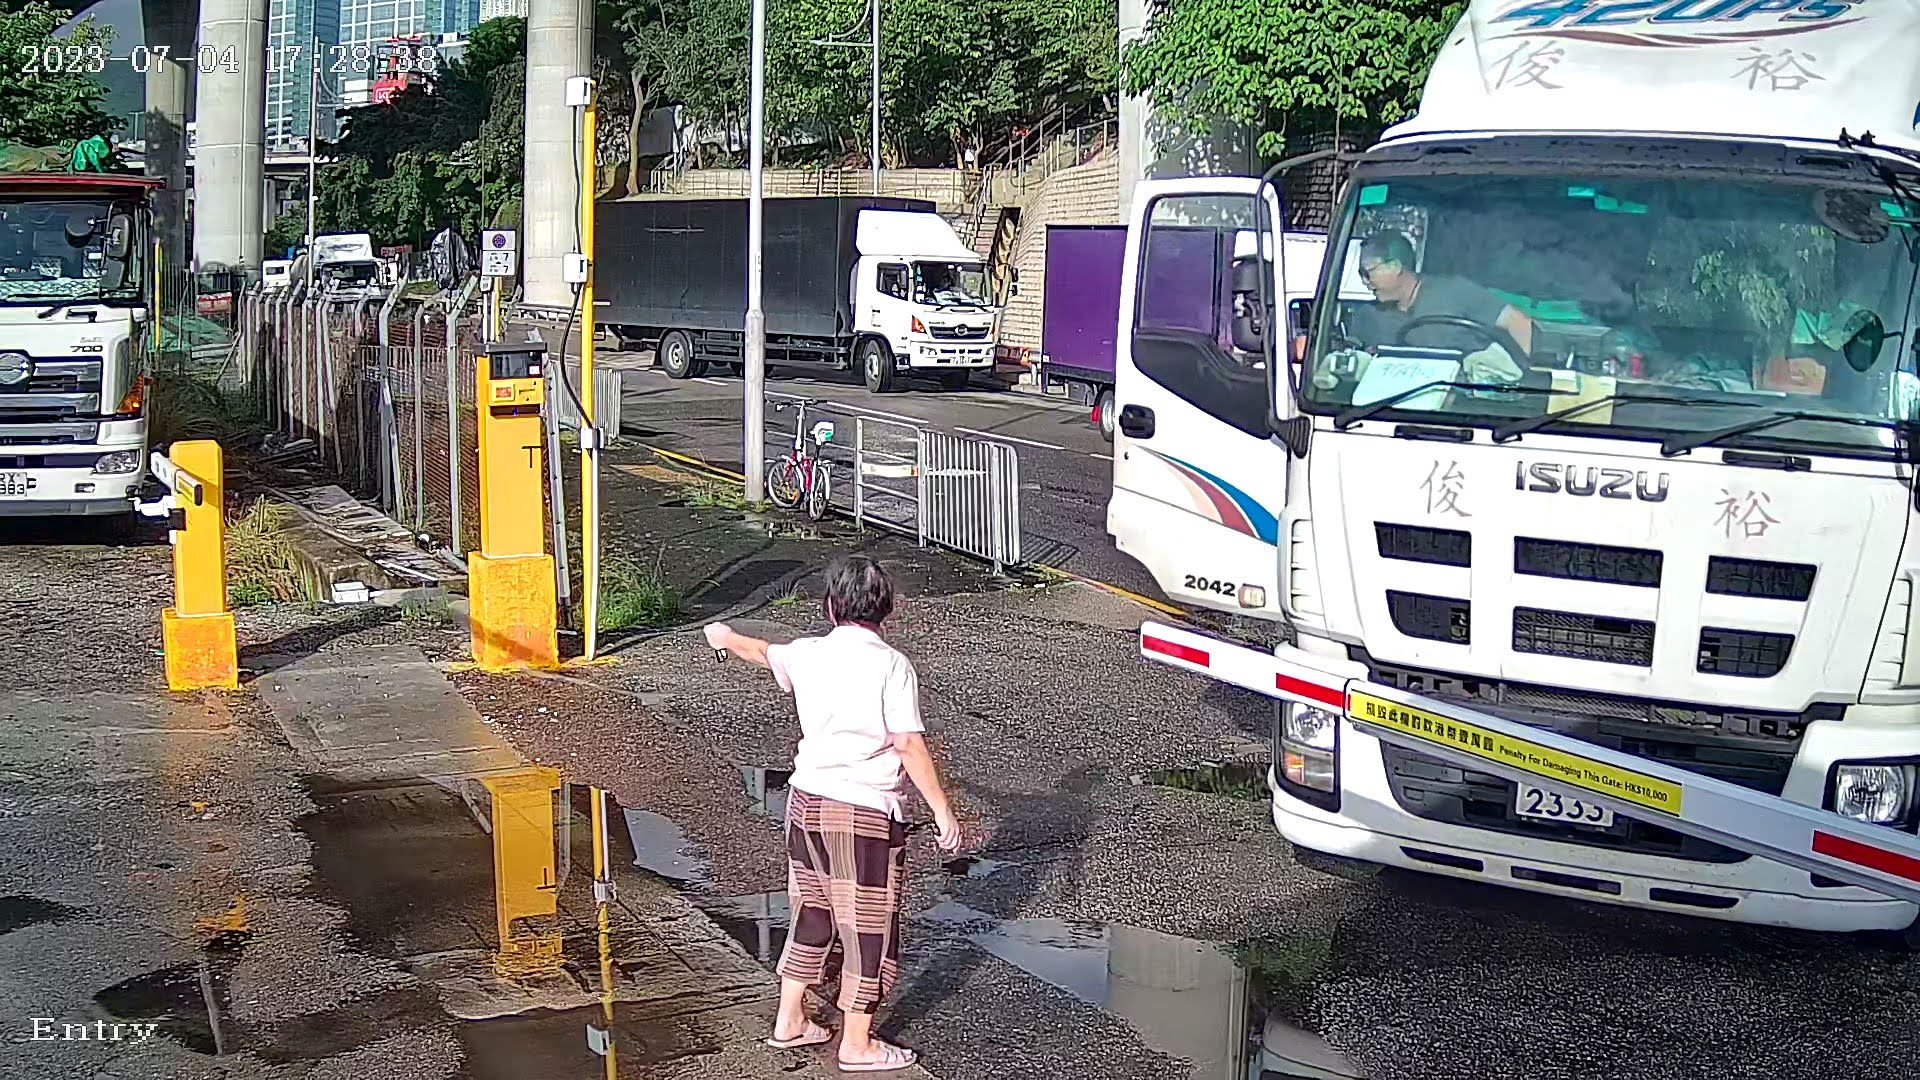truck: (1065, 1, 1905, 993)
